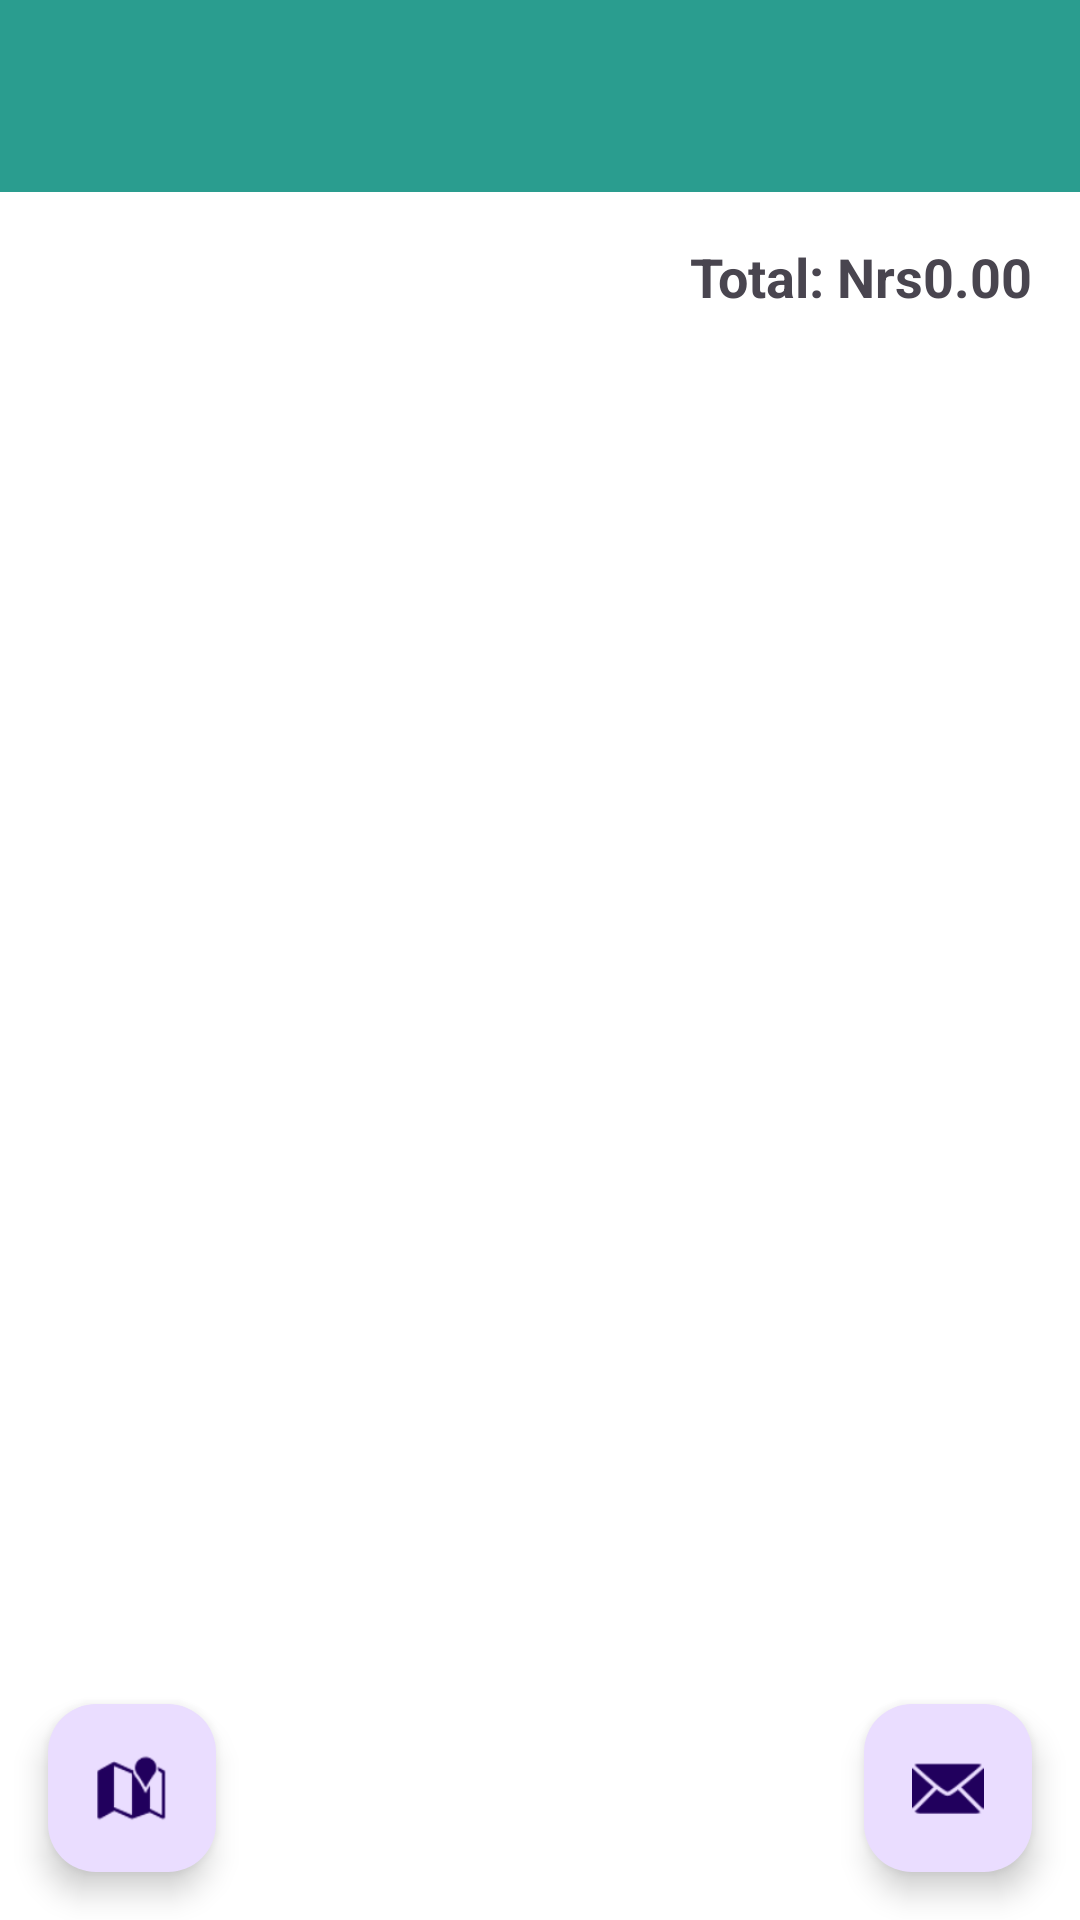

Named icons in this screenshot (1080*1920) and their centers, [x,y]:
Share by SMS: [948,1788]
View Stores on Map: [132,1788]
